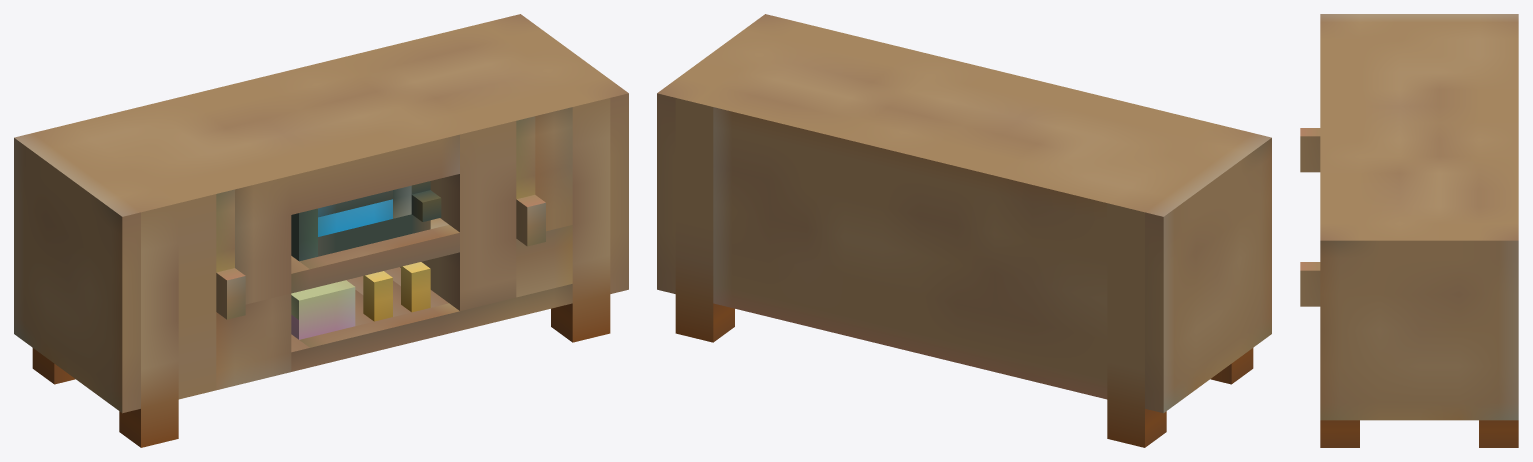
File: CabinetWithVanityItems_00.fbx
3 views of the same model, side by side, from view 1: azimuth 30°, elevation 25°; view 2: azimuth 150°, elevation 25°; view 3: azimuth 270°, elevation 25° (orthographic). The views are drawn at different scales.
Visible parts, largest first — view 1: CabinetWithVanityItems_00; view 2: CabinetWithVanityItems_00; view 3: CabinetWithVanityItems_00.
Boxes of the visible parts, x1,y1,x2,y2 form: CabinetWithVanityItems_00: (14,14,628,447); CabinetWithVanityItems_00: (657,14,1271,447); CabinetWithVanityItems_00: (1300,14,1518,447).
Bounding box in the file's own units: 135 × 55 × 60.
2 materials, 2 textured.
